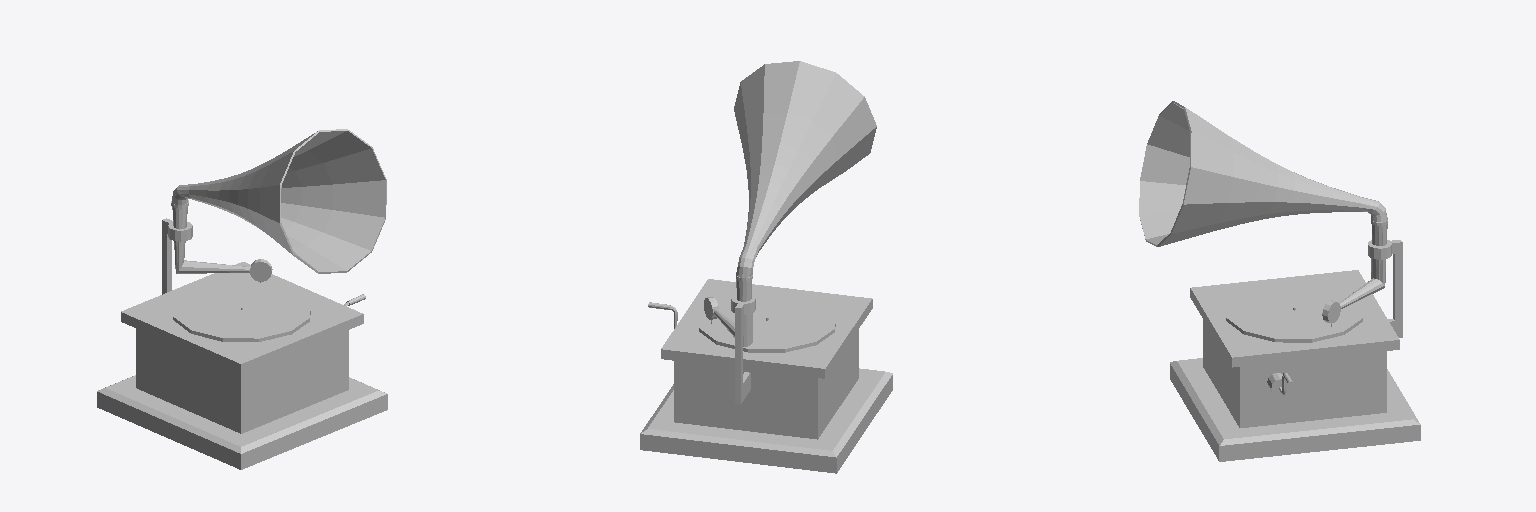
File: gramophone.obj
3 renders of one model, left to right at view 1: azimuth 30°, elevation 25°; view 2: azimuth 150°, elevation 25°; view 3: azimuth 270°, elevation 25°, orthographic.
Visible parts, largest first — view 1: gramophone_Cube.001; view 2: gramophone_Cube.001; view 3: gramophone_Cube.001.
Boxes of the visible parts, x1=… form: gramophone_Cube.001: x1=97, y1=129, x2=387, y2=469; gramophone_Cube.001: x1=640, y1=61, x2=892, y2=473; gramophone_Cube.001: x1=1139, y1=101, x2=1420, y2=461.
Size of the model in its own units: 8.33 by 10.93 by 8.9.